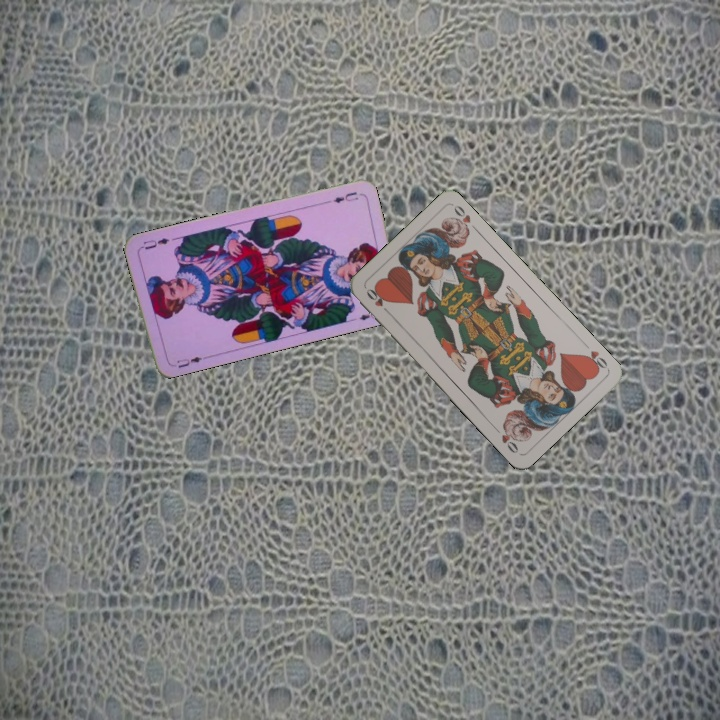EU: (172, 352, 208, 370), (330, 188, 361, 206)
HO: (579, 339, 610, 374), (362, 284, 393, 317)
